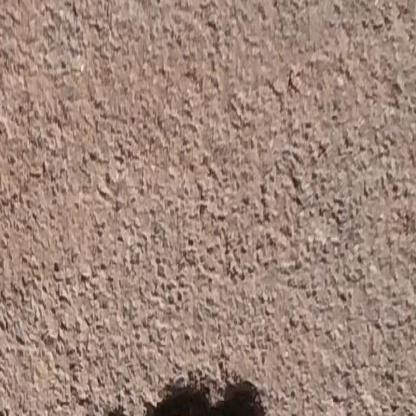Cracks: (78, 379, 279, 416)
